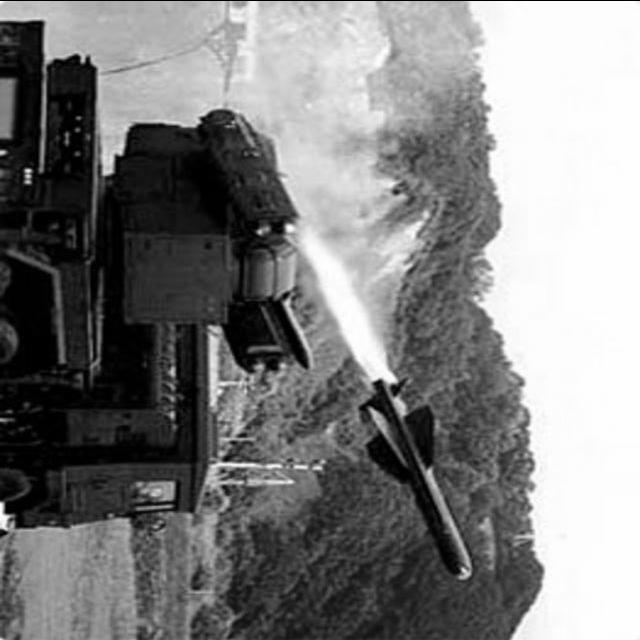missile: (356, 375, 478, 580)
